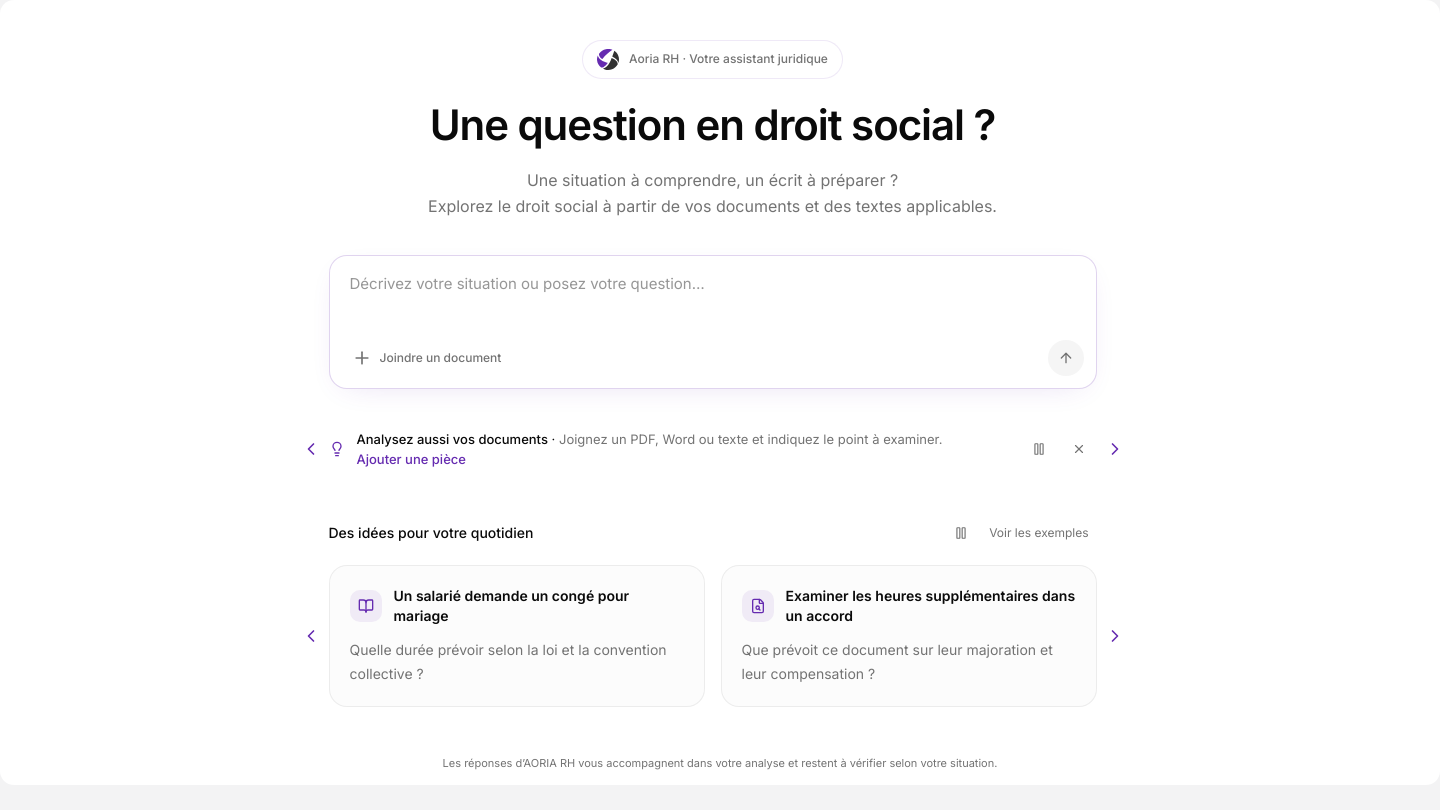
suspends rotation while the user reads or focuses the idea
Hover over the element named "Idées et conseils" at x=712, y=450, box top-left (328, 431), bottom-right (1096, 469)
Wait 20000 ms
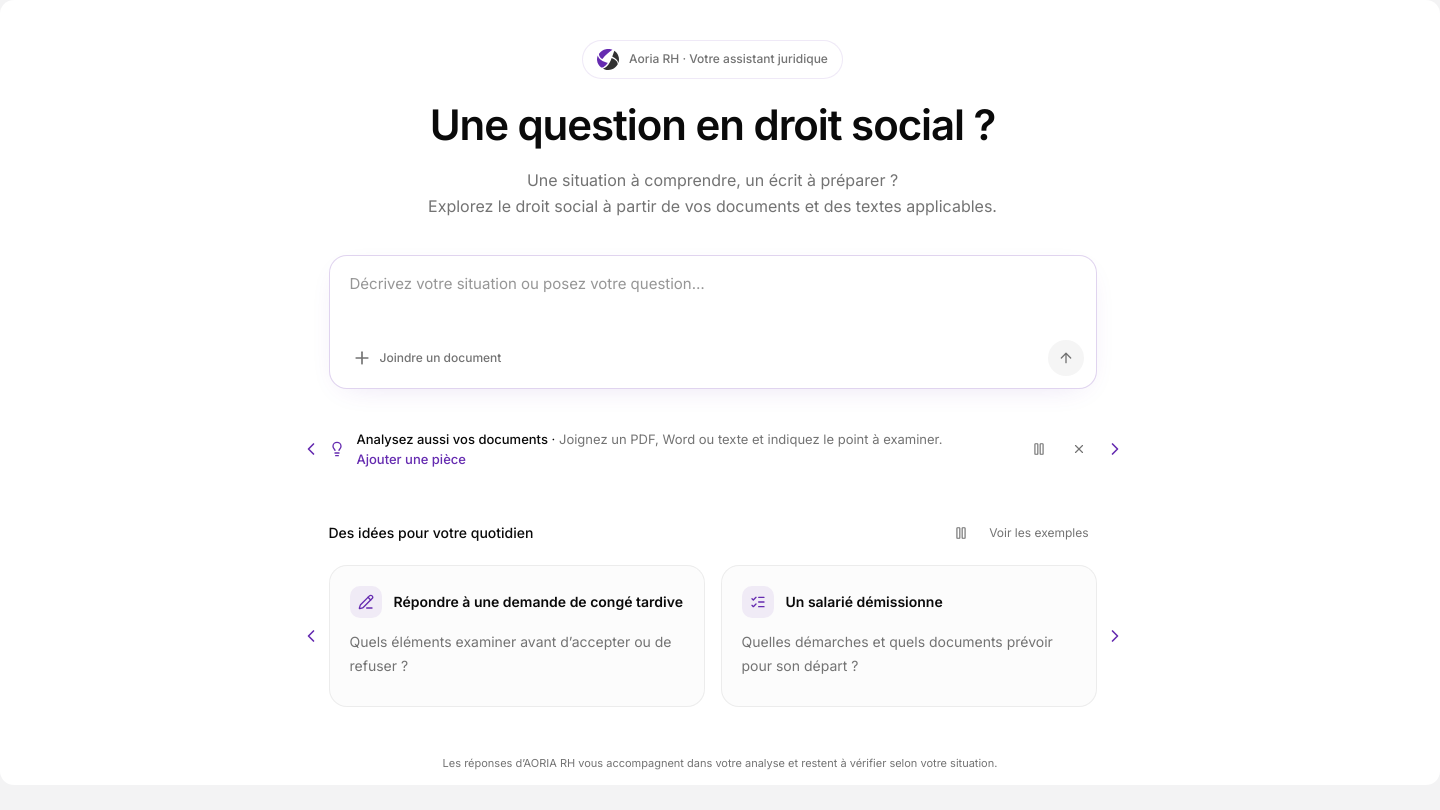
Check: the element named "Idées et conseils" shows "Analysez aussi vos documents", box top-left (356, 431), bottom-right (548, 447)
Focus the button named "Afficher le conseil suivant". click: x=1114, y=449
box: top-left (1100, 435), bottom-right (1128, 463)
Wait 20000 ms
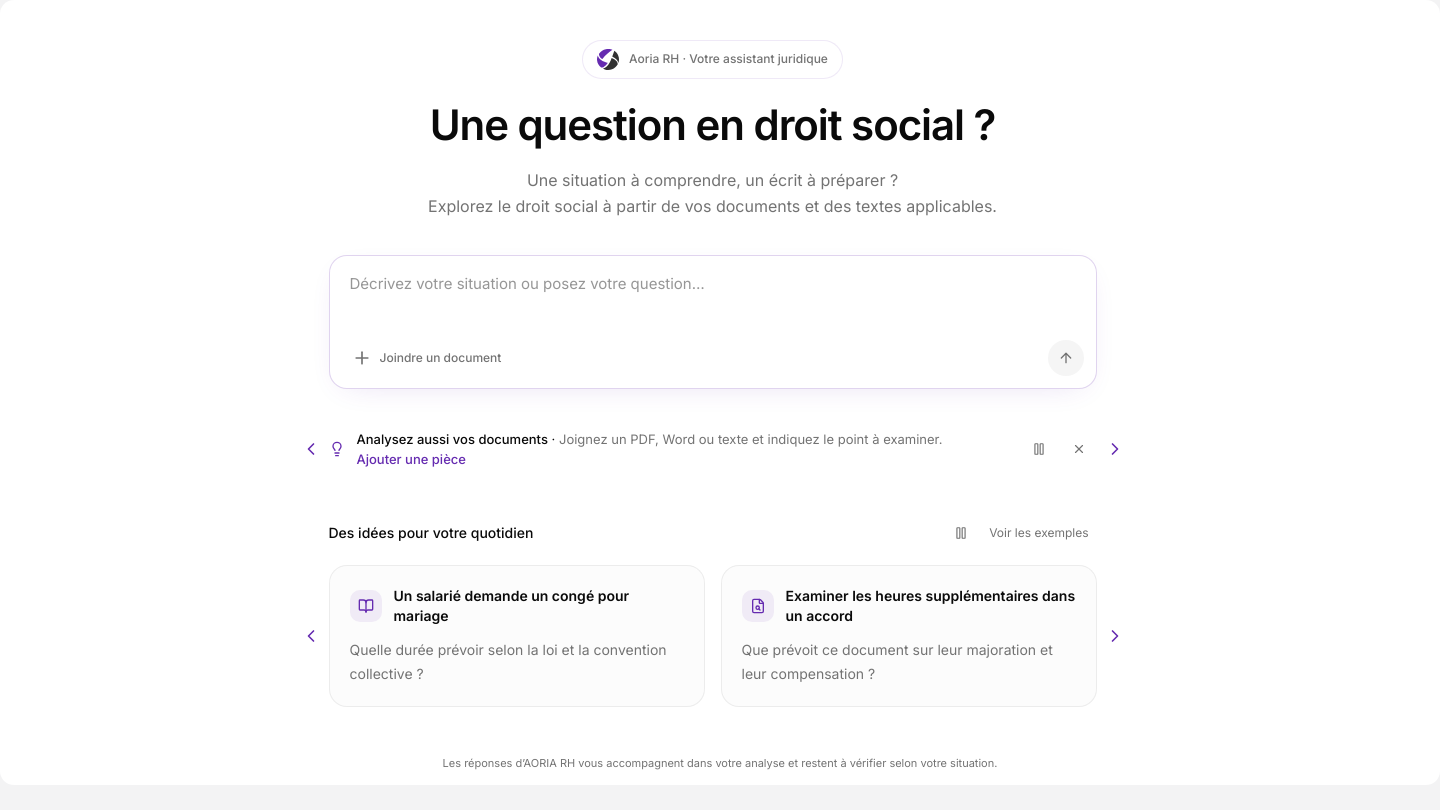
Check: the element named "Idées et conseils" shows "Analysez aussi vos documents", box top-left (356, 431), bottom-right (548, 447)
Leave the button named "Afficher le conseil suivant", box top-left (1100, 435), bottom-right (1128, 463)
Wait 5000 ms
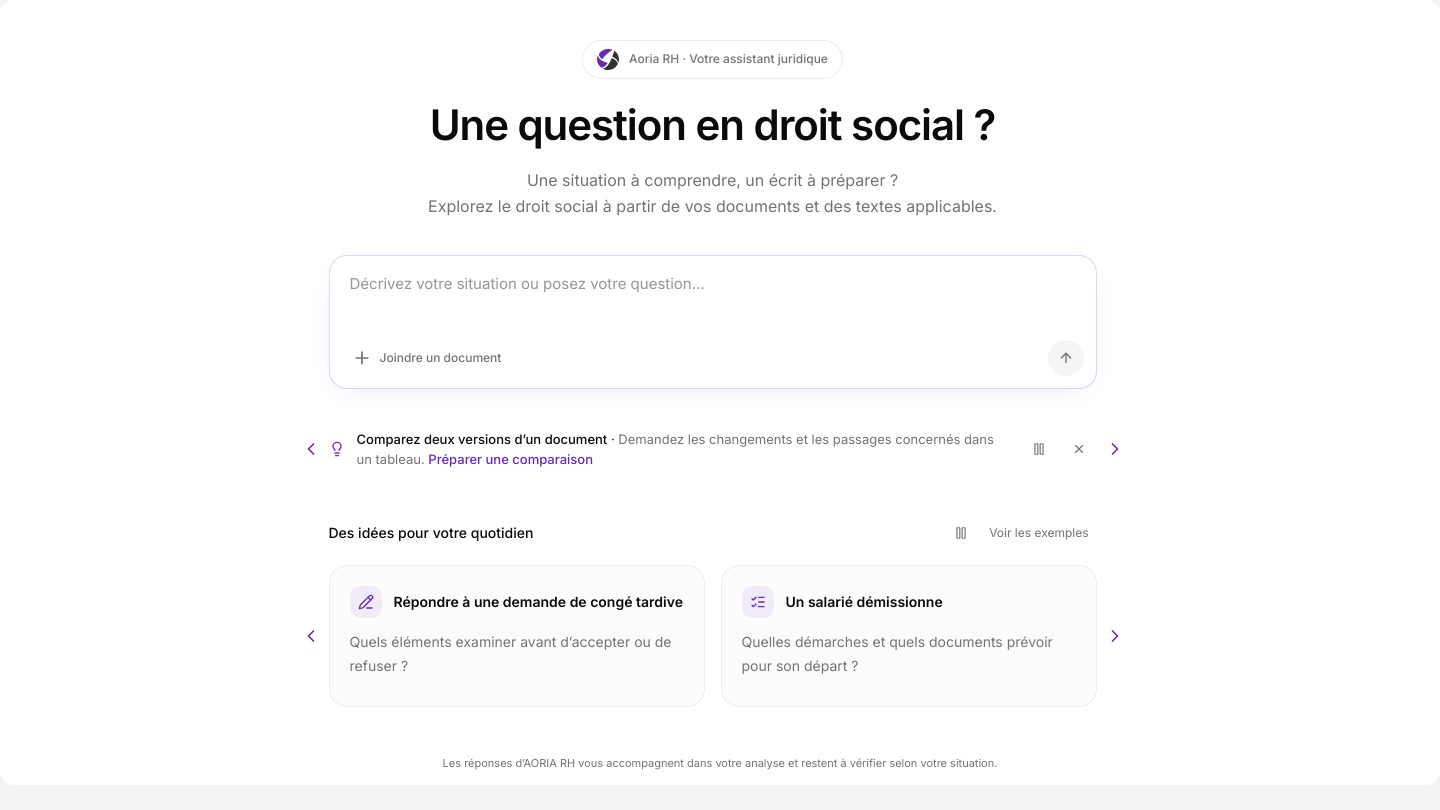
Check: the element named "Idées et conseils" shows "Comparez deux versions", box top-left (356, 431), bottom-right (607, 447)
